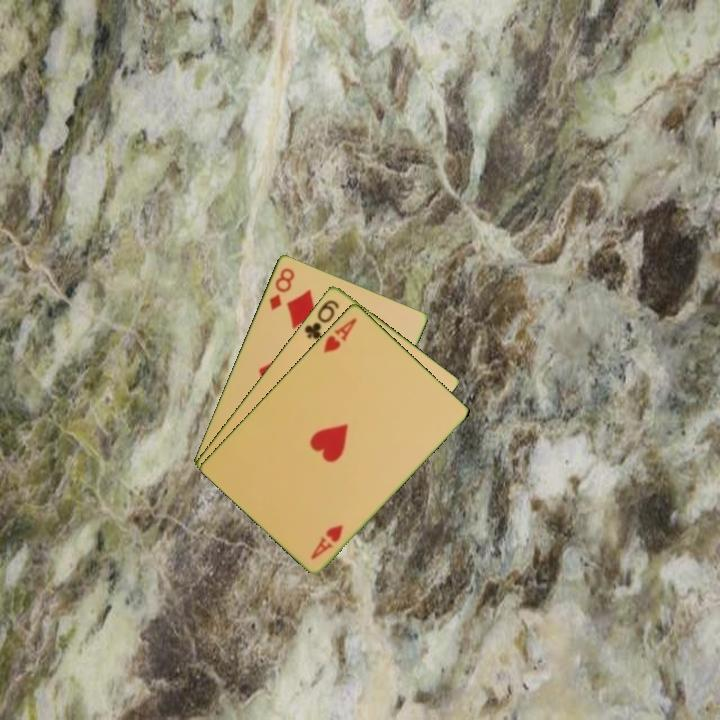6c: (300, 296, 342, 342)
8d: (265, 264, 297, 313)
Ah: (320, 314, 360, 356), (307, 521, 346, 562)
